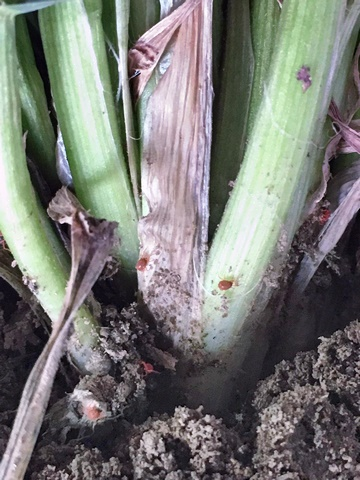Wheat Red Spider: (128, 246, 158, 278), (211, 273, 241, 297)
